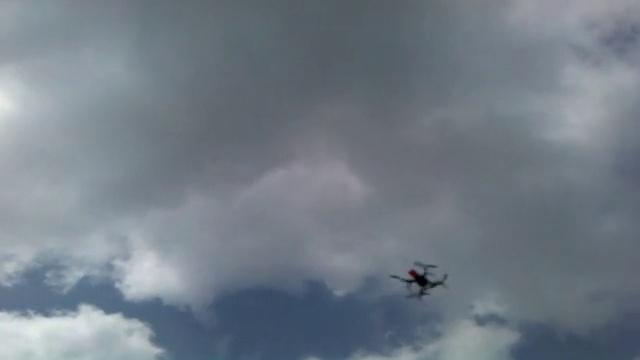drone: (387, 259, 452, 304)
